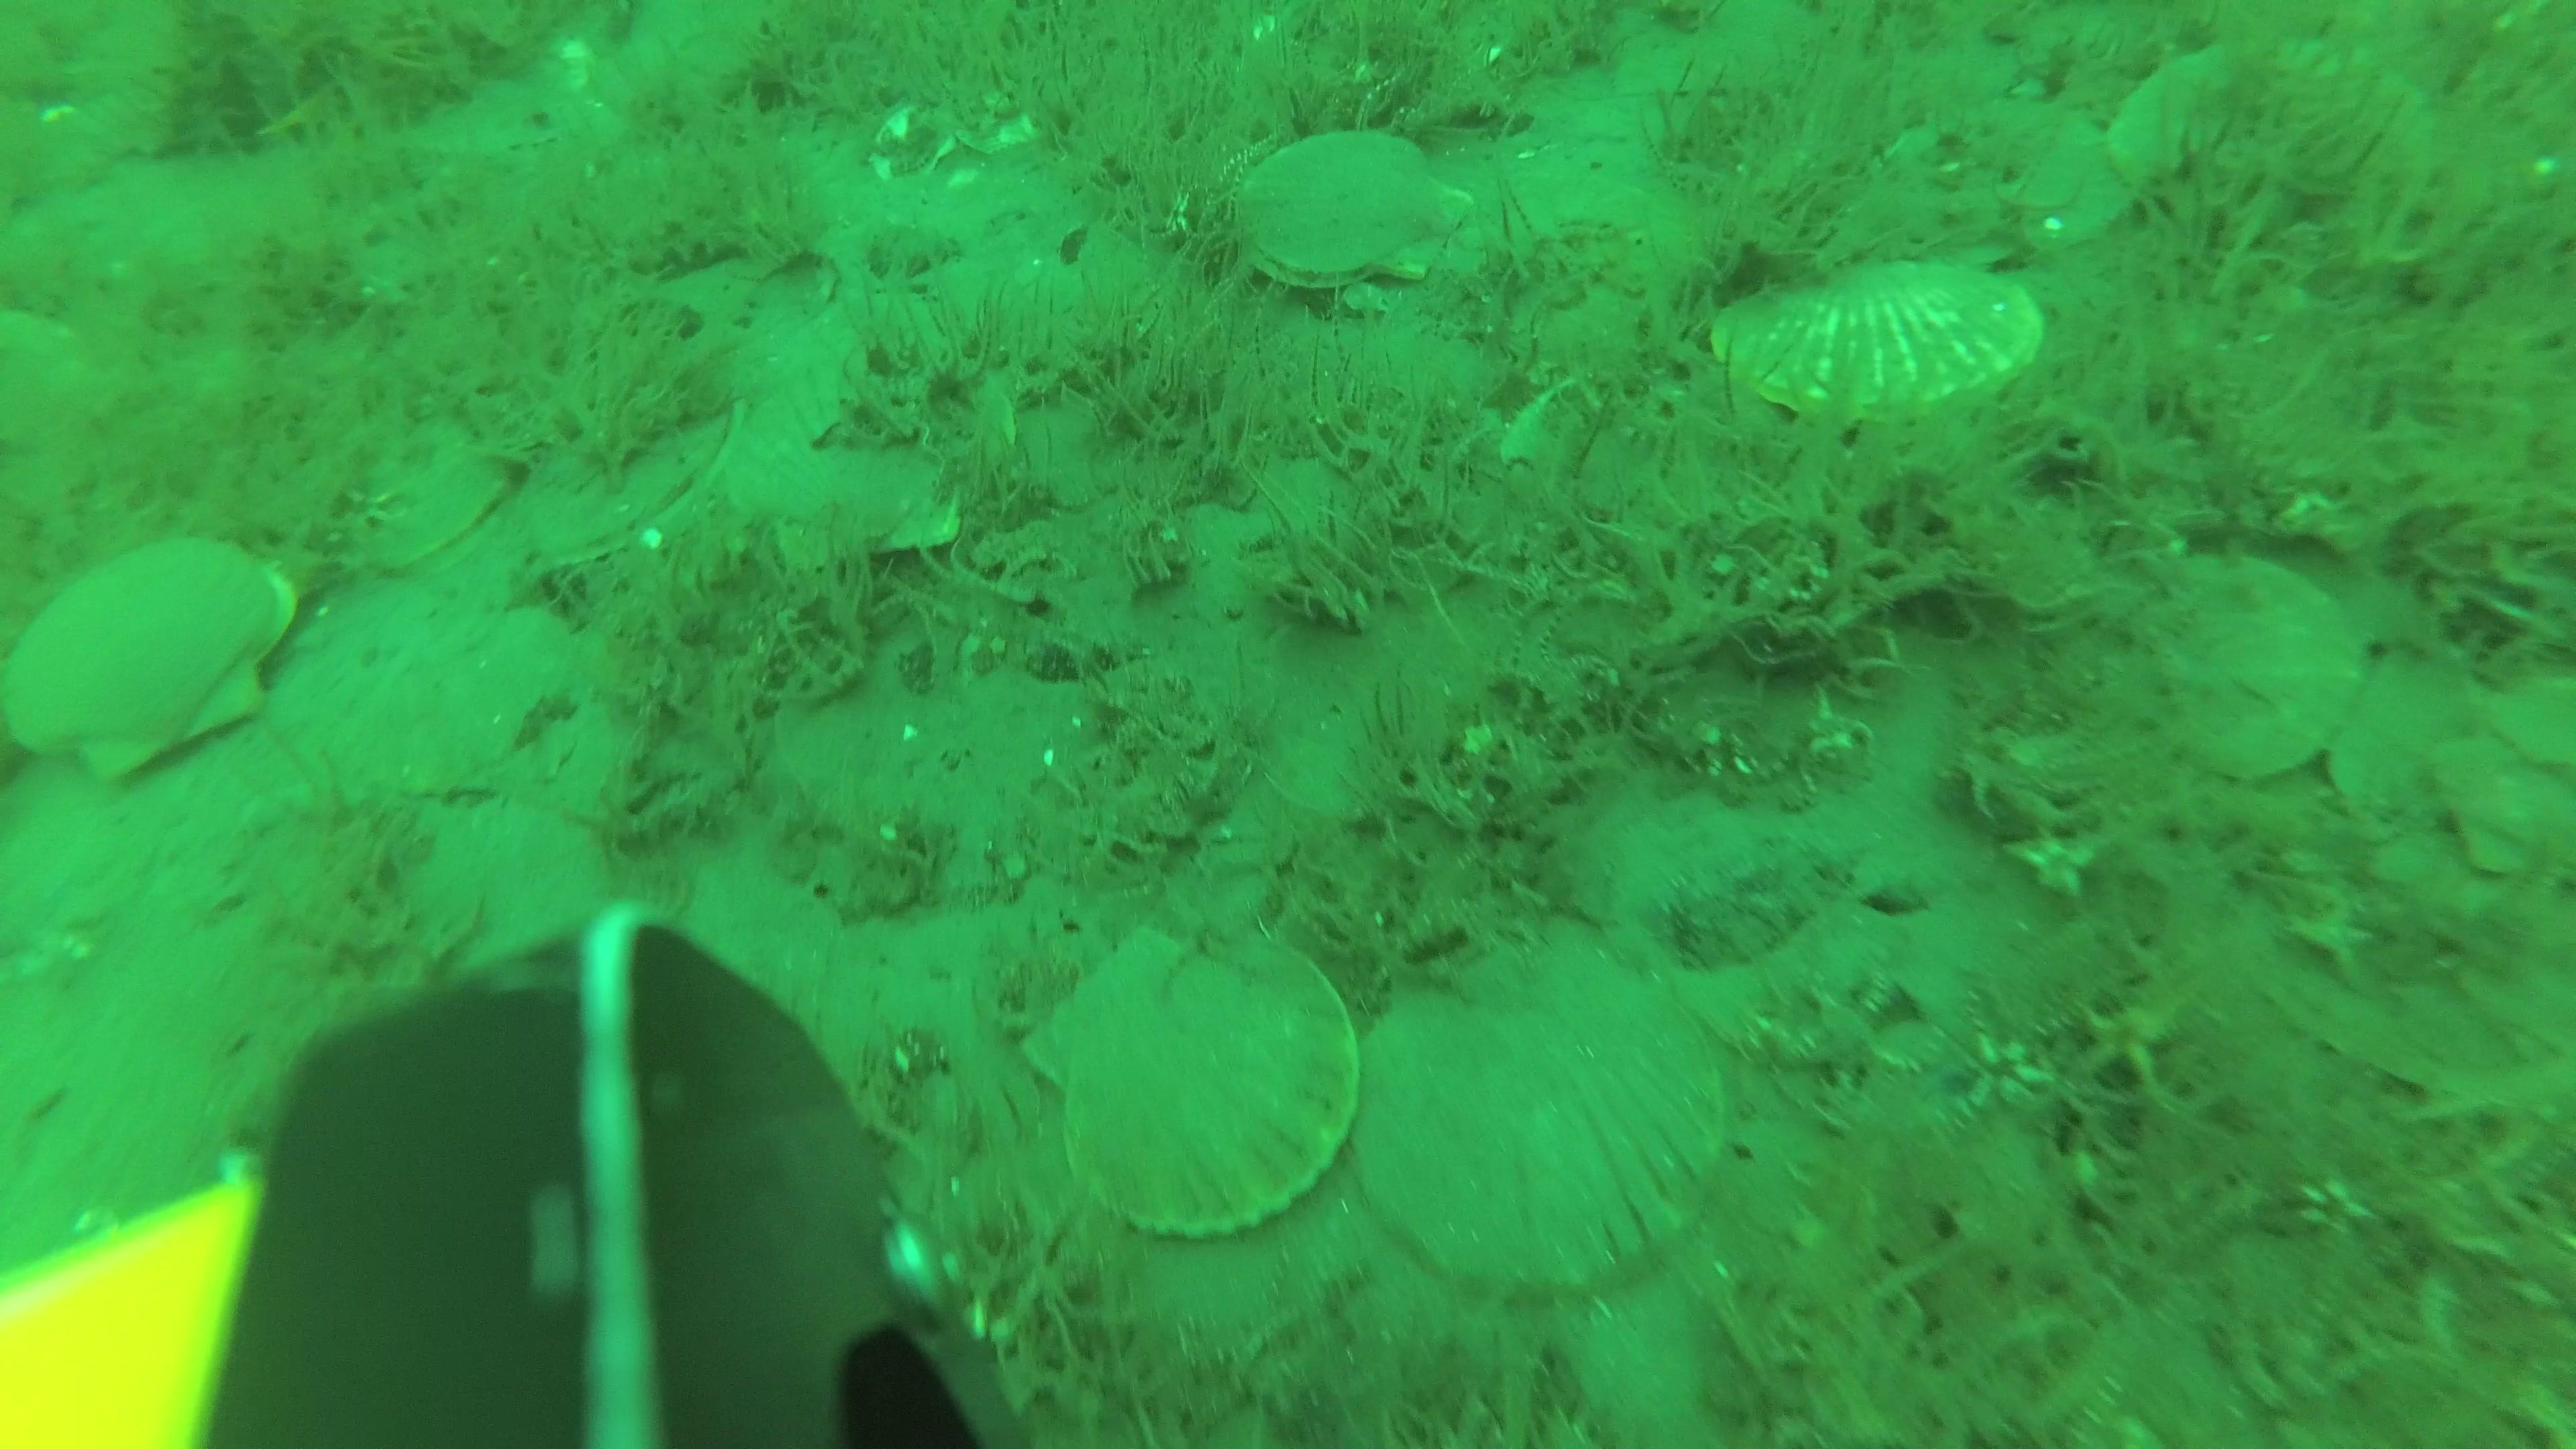scallop: (1357, 980, 1737, 1295), (1026, 915, 1352, 1235), (0, 541, 303, 771), (729, 333, 1012, 557), (1713, 255, 2049, 416), (2100, 34, 2434, 193), (2151, 556, 2360, 778), (1240, 134, 1479, 290)
